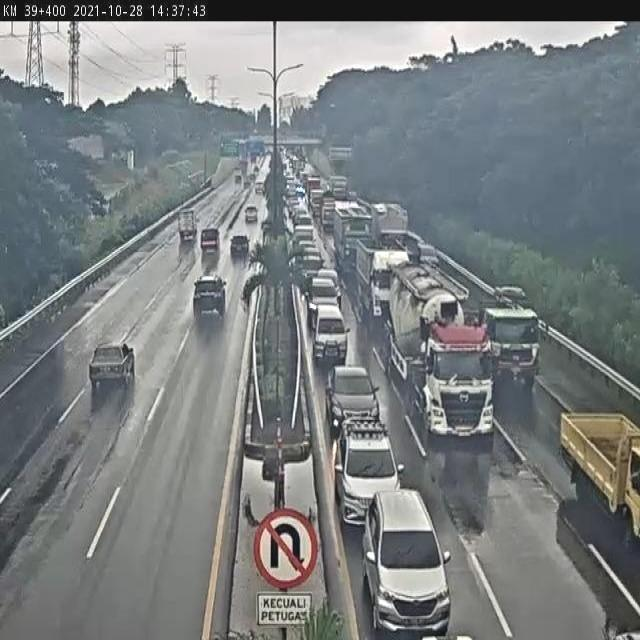Car: (361, 488, 452, 634), (334, 417, 402, 526), (88, 342, 135, 399), (192, 274, 228, 326), (307, 273, 342, 320), (294, 251, 322, 294), (294, 211, 313, 239), (230, 234, 250, 259), (284, 178, 298, 199), (282, 162, 292, 182), (255, 181, 264, 194), (235, 170, 242, 183), (244, 174, 251, 187), (250, 170, 256, 182)
Truck: (387, 266, 496, 446), (560, 414, 640, 554), (480, 291, 541, 389), (355, 239, 410, 320), (325, 362, 381, 438), (177, 209, 197, 242), (200, 228, 220, 254)
Van: (309, 300, 349, 367), (244, 205, 258, 222)
